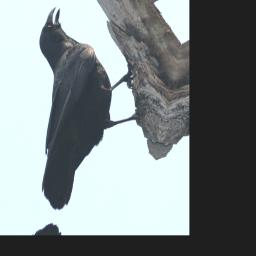Crow: (3, 1, 163, 224)
